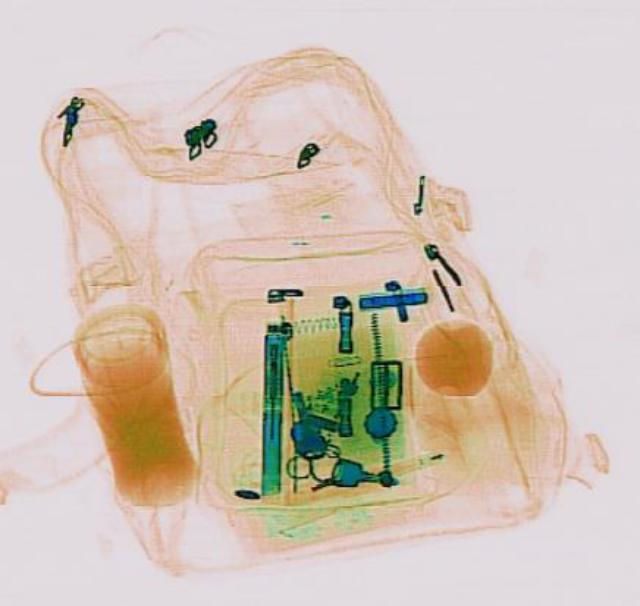Scissors: (271, 384, 343, 485)
